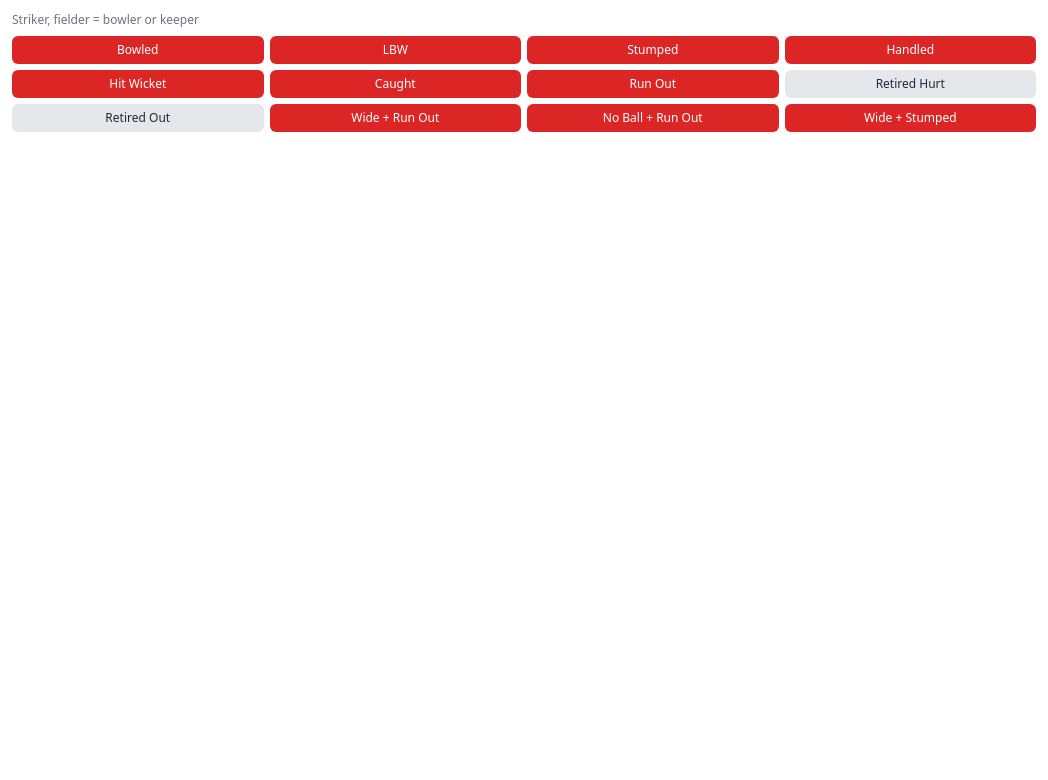
Test case: WicketControls › closes an open popover when clicking outside it
Click the button "Run Out".
click(653, 84)  # box [527,70,778,98]
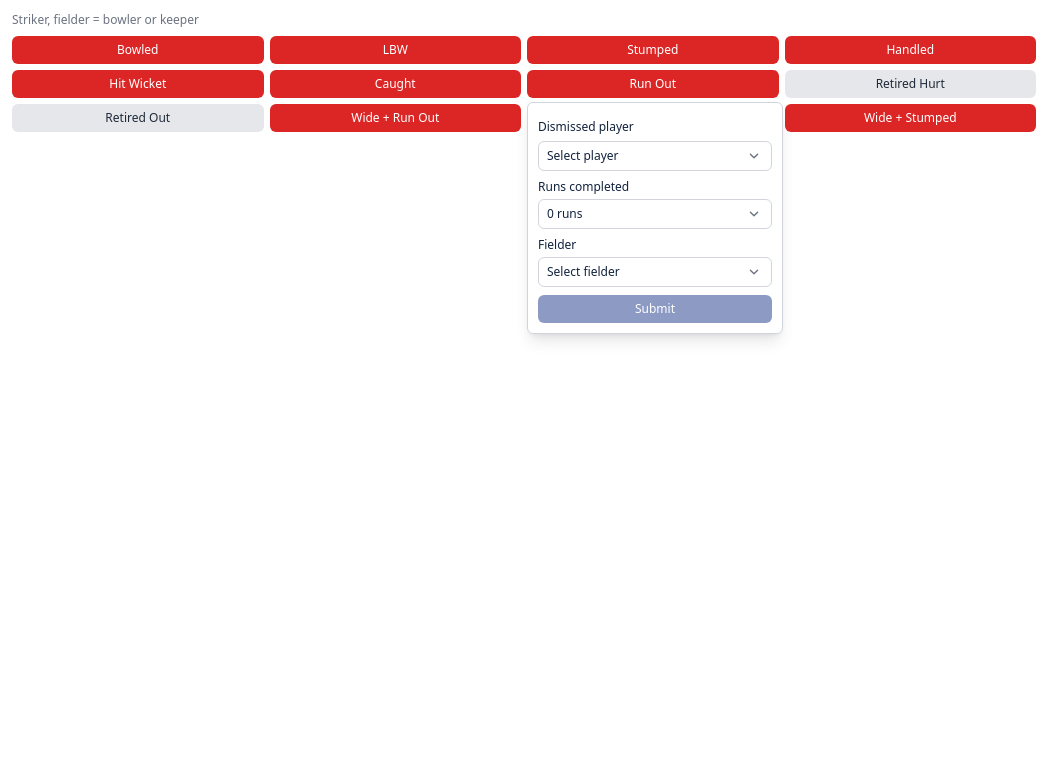
expect the dropdown labelled "Dismissed player" is shown: met, box [538,141,772,171]
Press the mouse on the element that starts with "Striker, fielder = bowler or keeper" at (524, 396), box [12,12,1036,779]
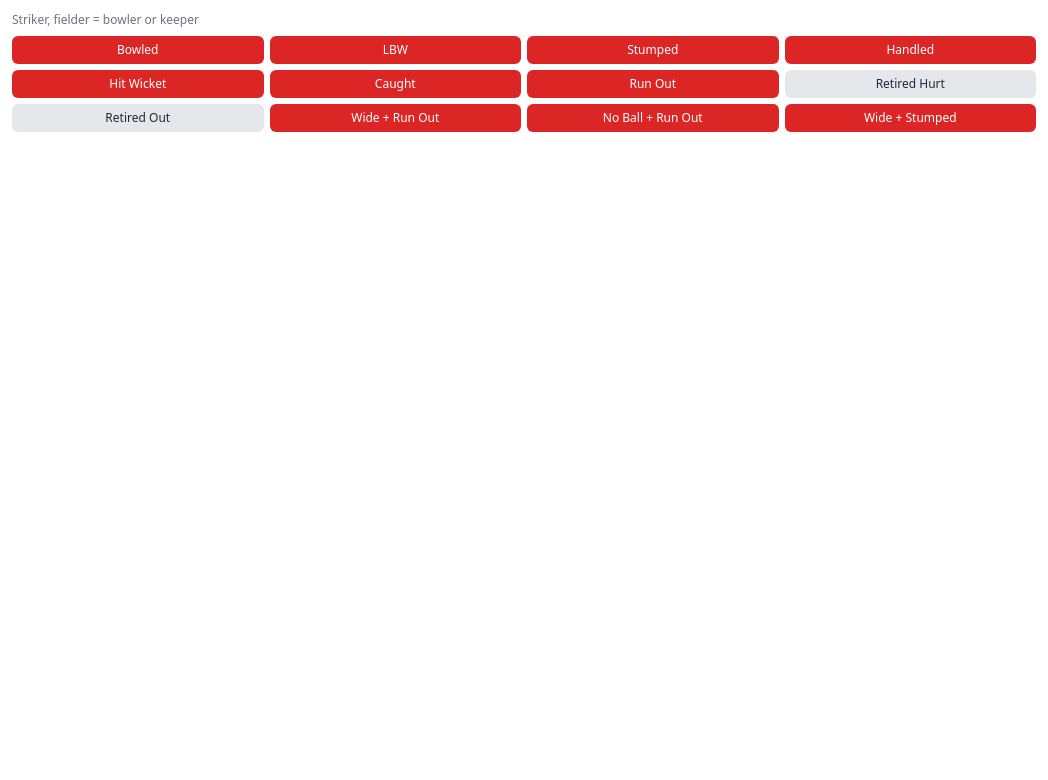
expect the label labelled "Dismissed player" is gone: met
